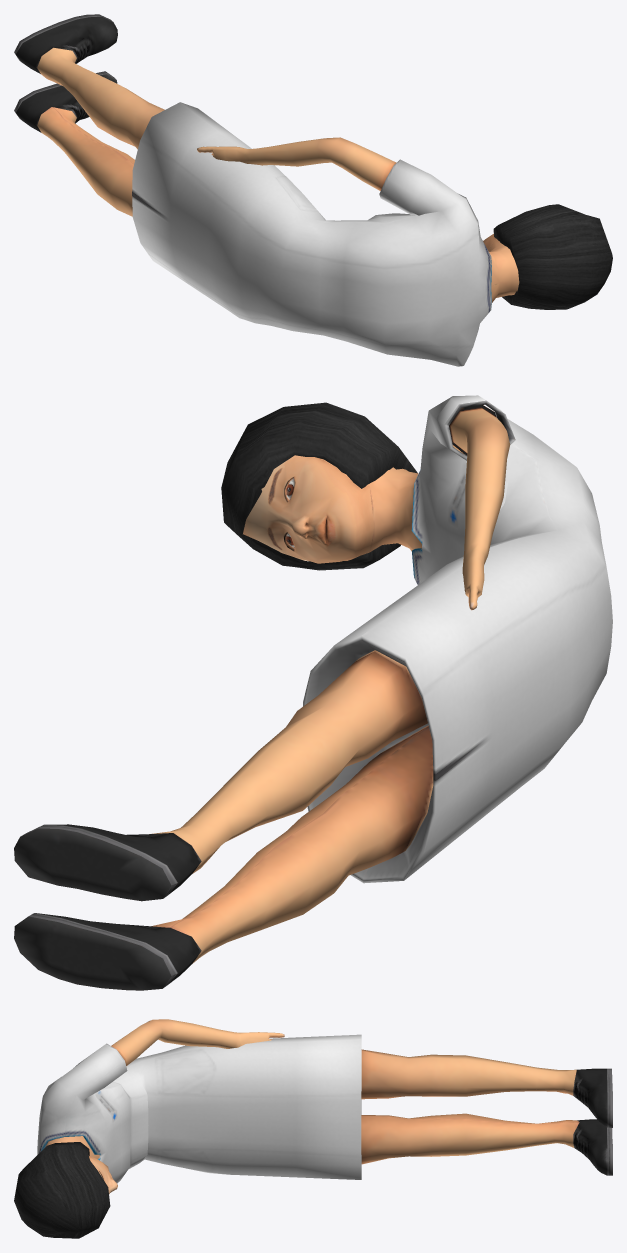
File: nurse_leaning_waving.glb
The picture shows the model from 3 angles, top to bottom: view 1: azimuth 30°, elevation 25°; view 2: azimuth 150°, elevation 25°; view 3: azimuth 270°, elevation 25°; orthographic projection. The views are drawn at different scales.
Visible parts, largest first — view 1: world; view 2: world; view 3: world.
Boxes of the visible parts, box(x1,y1,x2,y2) form: world: box(14, 14, 612, 366); world: box(14, 395, 612, 990); world: box(14, 1019, 612, 1238).
Size of the model in its own units: 0.6516 by 0.426 by 1.29.
1 material, 1 textured.
